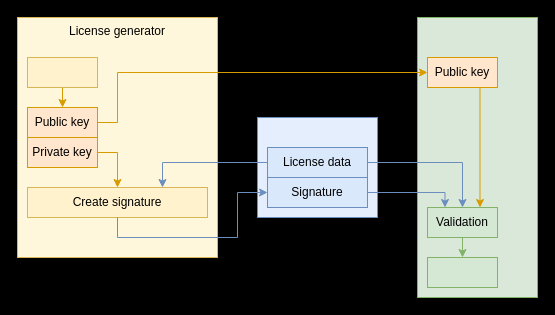
The diagram is 555 pixels wide and 315 high, and some of its shapes have lost their labels. The shapes that lost their labels are listed below. From the top down, each one's box as (x1, y1, x2, y2) in pixels, then its label:
(26, 56, 98, 88): KeyGen
(256, 116, 378, 218): License file
(416, 16, 538, 298): Application to license
(426, 256, 498, 288): License data check
